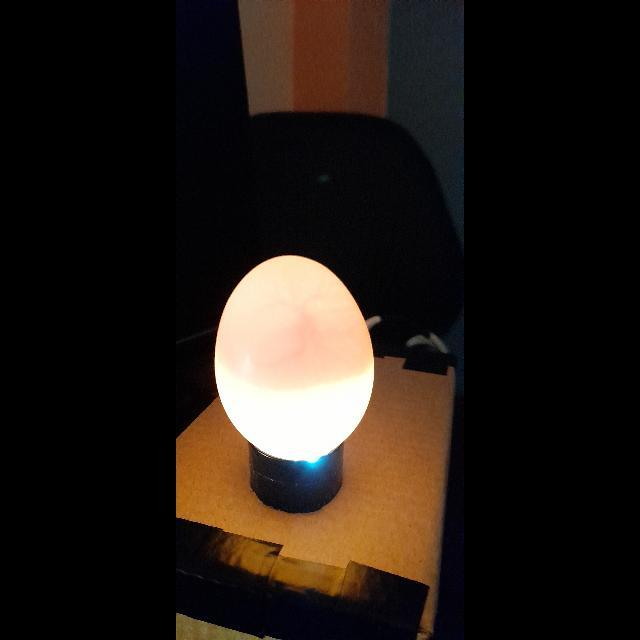Fertile: (210, 253, 372, 461)
